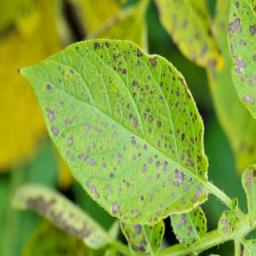Early_blight: (173, 168, 185, 188), (46, 107, 56, 121), (85, 155, 96, 166), (192, 189, 201, 202), (148, 56, 158, 67), (51, 126, 60, 135), (113, 202, 119, 213), (188, 158, 194, 168), (147, 114, 153, 122)
Leaf: (16, 41, 210, 225)
